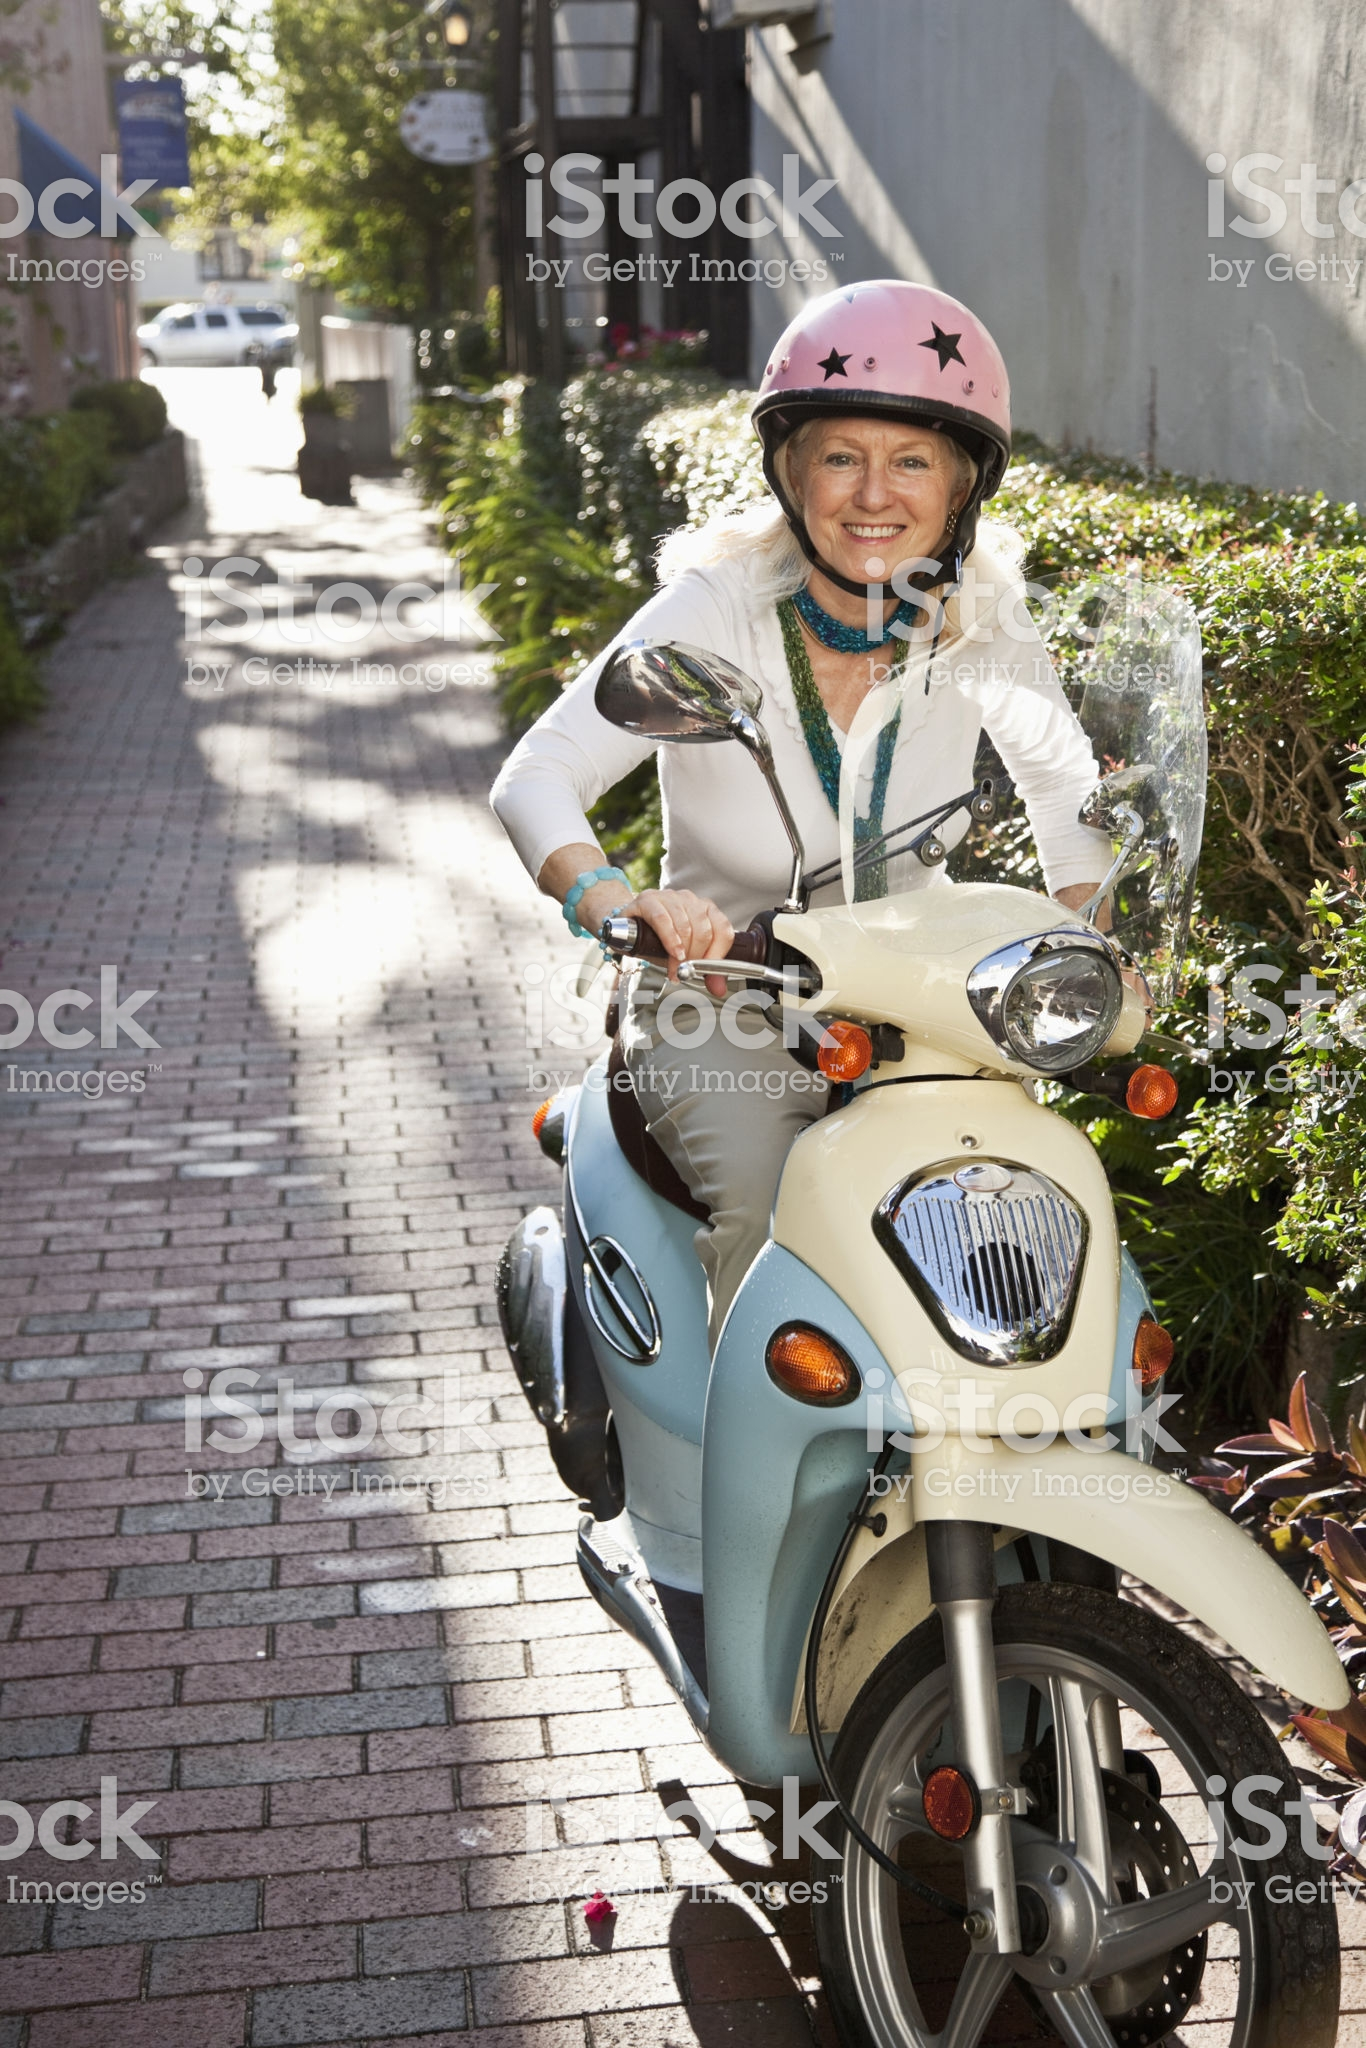helmet: (675, 241, 1053, 453)
